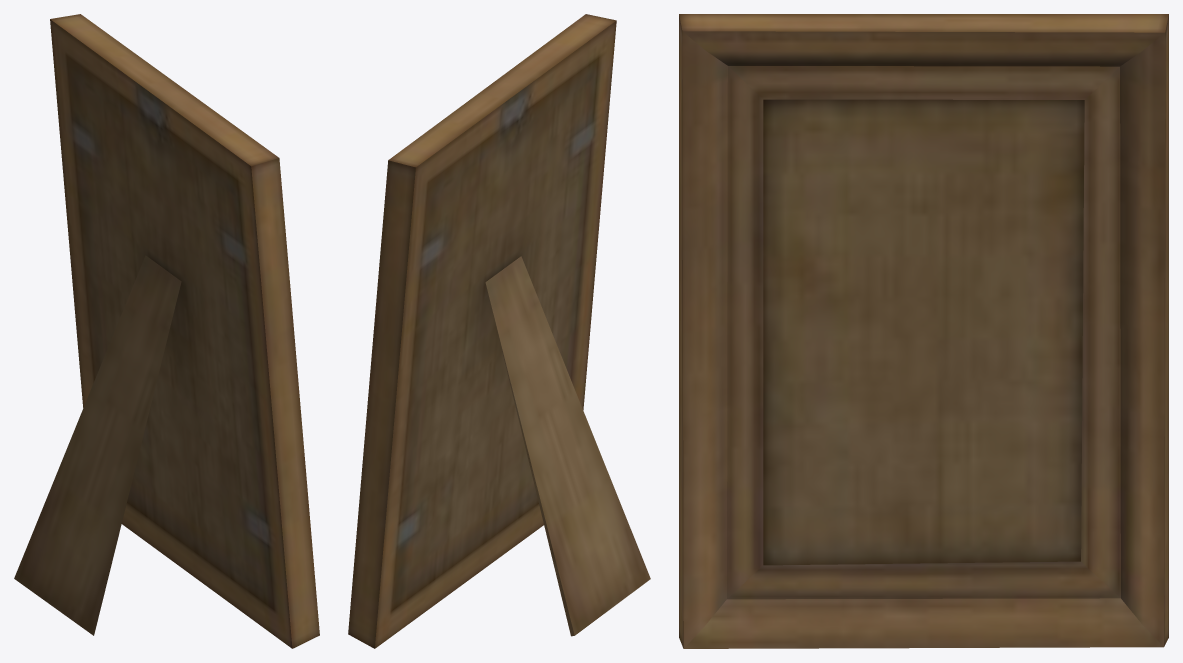
File: photo-frame-a.lod1.glb
3 views of the same model, side by side, from view 1: azimuth 30°, elevation 25°; view 2: azimuth 150°, elevation 25°; view 3: azimuth 270°, elevation 25° (orthographic). The views are drawn at different scales.
Visible parts, largest first — view 1: photo-frame-a; view 2: photo-frame-a; view 3: photo-frame-a.
Part boxes in pixels (x1,y1,x2,y2): photo-frame-a: (14,14,319,648); photo-frame-a: (348,14,650,648); photo-frame-a: (679,14,1168,648).
Size of the model in its own units: 0.0762 by 0.2135 by 0.1581.
Materials: 1 (1 with a texture image).
